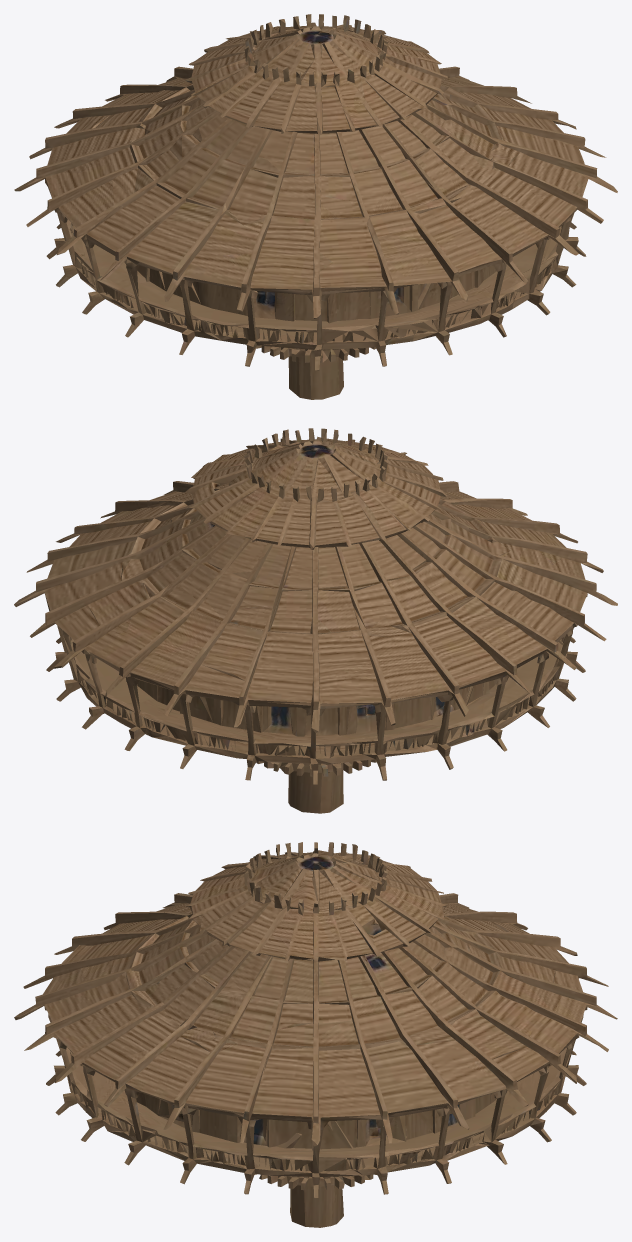
The model's file is wookieehouse.glb.
3 views of the same model, one above another, from view 1: azimuth 30°, elevation 25°; view 2: azimuth 150°, elevation 25°; view 3: azimuth 270°, elevation 25° (orthographic).
Visible parts, largest first — view 1: wookieehouse-centred; view 2: wookieehouse-centred; view 3: wookieehouse-centred.
Boxes of the visible parts, left/top/right/bottom form: wookieehouse-centred: left=14, top=14, right=617, bottom=399; wookieehouse-centred: left=14, top=428, right=617, bottom=813; wookieehouse-centred: left=14, top=842, right=617, bottom=1227.
Size of the model in its own units: 11.97 by 7.78 by 12.
1 material, 1 textured.
